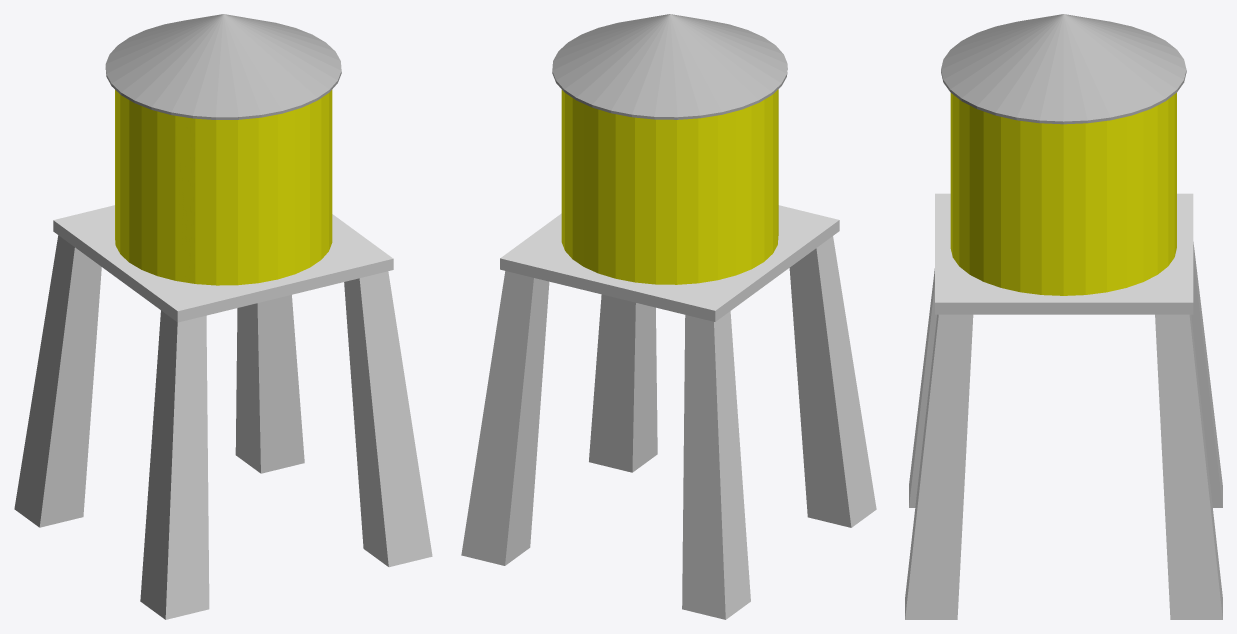
The model's file is Water Tank.fbx.
3 views of the same model, side by side, from view 1: azimuth 30°, elevation 25°; view 2: azimuth 150°, elevation 25°; view 3: azimuth 270°, elevation 25° (orthographic). The views are drawn at different scales.
Visible parts, largest first — view 1: Cube.001, Cone; view 2: Cube.001, Cone; view 3: Cone, Cube.001.
Boxes of the visible parts, <box> form: Cube.001: <box>14,205,432,619</box>; Cone: <box>105,14,341,285</box>; Cube.001: <box>461,205,876,619</box>; Cone: <box>552,14,787,284</box>; Cone: <box>941,14,1186,295</box>; Cube.001: <box>905,193,1222,619</box>.
Bounding box in the file's own units: 492 × 920 × 492.
